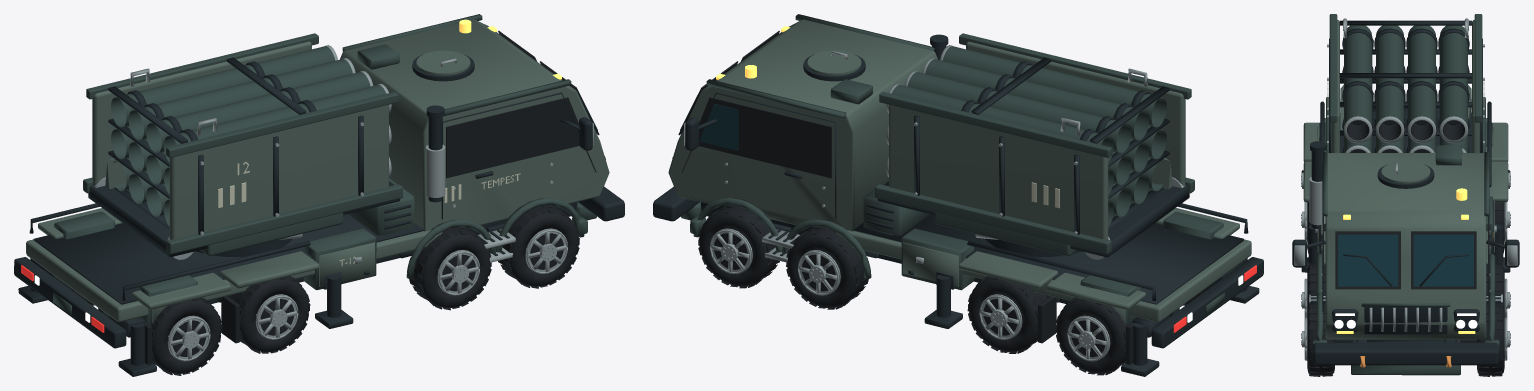
Rendered from tempest_mlrs_lod1.glb.
3 renders of one model, left to right at view 1: azimuth 30°, elevation 25°; view 2: azimuth 150°, elevation 25°; view 3: azimuth 270°, elevation 25°, orthographic. The views are drawn at different scales.
Parts seen in each view (by area): view 1: Body__Armor_Slate_Olive, Launcher_Pitch__Panels_Deep_Slate, Launcher_Pitch__Armor_Slate_Olive, Body__Structure_Gunmetal, Body__Panels_Deep_Slate, Body__Rubber_And_Recesses, Launcher_Pitch__Structure_Gunmetal, Wheel_MR1__Rubber_And_Recesses, Wheel_FR__Rubber_And_Recesses, Wheel_MR2__Rubber_And_Recesses, Wheel_RR__Rubber_And_Recesses, Body__Machined_Steel (+6 smaller); view 2: Body__Armor_Slate_Olive, Launcher_Pitch__Panels_Deep_Slate, Launcher_Pitch__Armor_Slate_Olive, Body__Structure_Gunmetal, Body__Panels_Deep_Slate, Launcher_Pitch__Structure_Gunmetal, Body__Rubber_And_Recesses, Wheel_ML1__Rubber_And_Recesses, Wheel_FL__Rubber_And_Recesses, Wheel_ML2__Rubber_And_Recesses, Wheel_RL__Rubber_And_Recesses, Launcher_Yaw__Panels_Deep_Slate (+7 smaller); view 3: Body__Armor_Slate_Olive, Launcher_Pitch__Panels_Deep_Slate, Body__Structure_Gunmetal, Body__Armored_Blue_Glass, Launcher_Pitch__Structure_Gunmetal, Body__Panels_Deep_Slate, Body__Machined_Steel, Body__Rubber_And_Recesses, Launcher_Pitch__Machined_Steel, Launcher_Pitch__Rubber_And_Recesses, Launcher_Pitch__Armor_Slate_Olive, Wheel_FR__Rubber_And_Recesses (+13 smaller).
Boxes of the visible parts, left/top/right/bottom form: Body__Armor_Slate_Olive: left=26, top=19, right=609, bottom=323; Launcher_Pitch__Panels_Deep_Slate: left=83, top=33, right=402, bottom=254; Launcher_Pitch__Armor_Slate_Olive: left=92, top=41, right=388, bottom=239; Body__Structure_Gunmetal: left=14, top=54, right=624, bottom=376; Body__Panels_Deep_Slate: left=53, top=14, right=596, bottom=325; Body__Rubber_And_Recesses: left=144, top=31, right=599, bottom=364; Launcher_Pitch__Structure_Gunmetal: left=88, top=57, right=400, bottom=257; Wheel_MR1__Rubber_And_Recesses: left=409, top=226, right=491, bottom=310; Wheel_FR__Rubber_And_Recesses: left=498, top=205, right=579, bottom=288; Wheel_MR2__Rubber_And_Recesses: left=231, top=276, right=310, bottom=353; Wheel_RR__Rubber_And_Recesses: left=151, top=297, right=222, bottom=375; Body__Machined_Steel: left=354, top=58, right=593, bottom=263; Body__Armor_Slate_Olive: left=668, top=19, right=1251, bottom=323; Launcher_Pitch__Panels_Deep_Slate: left=875, top=33, right=1194, bottom=254; Launcher_Pitch__Armor_Slate_Olive: left=889, top=41, right=1185, bottom=239; Body__Structure_Gunmetal: left=653, top=34, right=1263, bottom=376; Body__Panels_Deep_Slate: left=681, top=14, right=1224, bottom=325; Launcher_Pitch__Structure_Gunmetal: left=877, top=57, right=1189, bottom=257; Body__Rubber_And_Recesses: left=678, top=31, right=1133, bottom=364; Wheel_ML1__Rubber_And_Recesses: left=786, top=226, right=868, bottom=309; Wheel_FL__Rubber_And_Recesses: left=698, top=205, right=779, bottom=288; Wheel_ML2__Rubber_And_Recesses: left=967, top=276, right=1046, bottom=353; Wheel_RL__Rubber_And_Recesses: left=1055, top=297, right=1126, bottom=375; Launcher_Yaw__Panels_Deep_Slate: left=934, top=212, right=1077, bottom=255; Body__Armor_Slate_Olive: left=1303, top=118, right=1508, bottom=339; Launcher_Pitch__Panels_Deep_Slate: left=1326, top=14, right=1485, bottom=152; Body__Structure_Gunmetal: left=1292, top=101, right=1519, bottom=365; Body__Armored_Blue_Glass: left=1338, top=234, right=1473, bottom=286; Launcher_Pitch__Structure_Gunmetal: left=1329, top=20, right=1482, bottom=152; Body__Panels_Deep_Slate: left=1312, top=122, right=1499, bottom=375; Body__Machined_Steel: left=1294, top=163, right=1517, bottom=331; Body__Rubber_And_Recesses: left=1322, top=216, right=1489, bottom=289; Launcher_Pitch__Machined_Steel: left=1327, top=18, right=1484, bottom=152; Launcher_Pitch__Rubber_And_Recesses: left=1346, top=120, right=1465, bottom=152; Launcher_Pitch__Armor_Slate_Olive: left=1332, top=20, right=1479, bottom=152; Wheel_FR__Rubber_And_Recesses: left=1306, top=302, right=1334, bottom=376.
Bounding box in the file's own units: 8.91 × 3.76 × 3.7.
